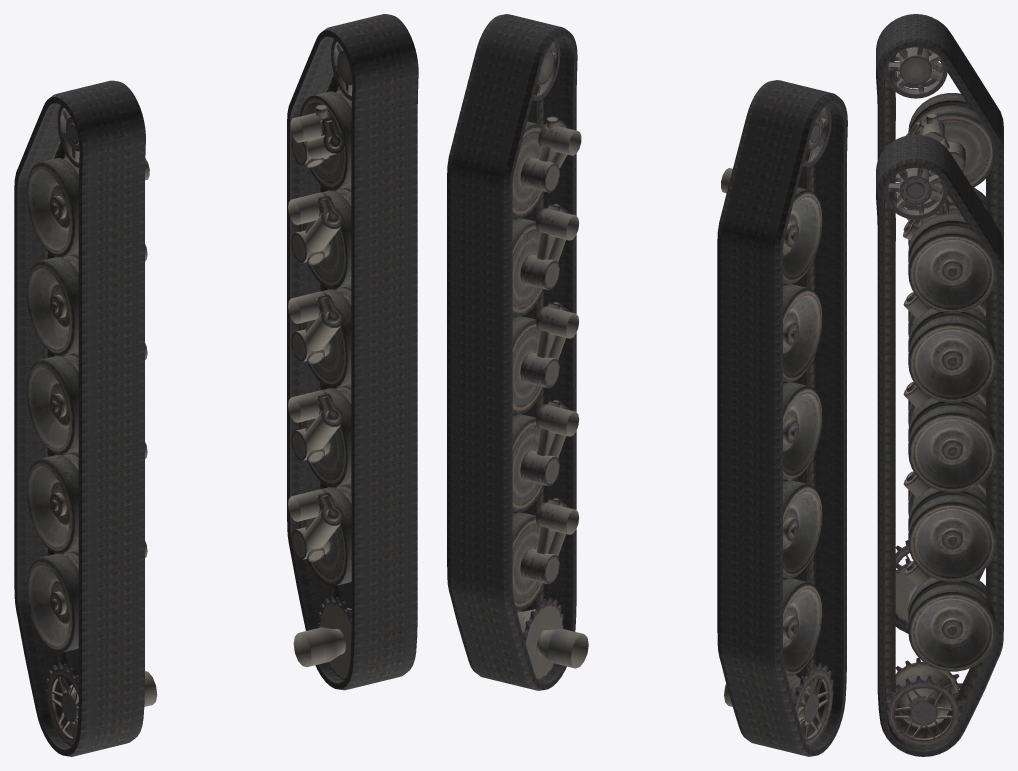
Rendered from Chassis.glb.
3 views of the same model, side by side, from view 1: azimuth 30°, elevation 25°; view 2: azimuth 150°, elevation 25°; view 3: azimuth 270°, elevation 25° (orthographic). The views are drawn at different scales.
Visible parts, largest first — view 1: set_1_group_0, set_0_group_0, set_3_group_0, set_2_group_0; view 2: set_1_group_0, set_0_group_0, set_3_group_0, set_2_group_0; view 3: set_3_group_0, set_0_group_0, set_2_group_0, set_1_group_0.
Boxes of the visible parts, <box> form: set_1_group_0: <box>14,80,145,756</box>; set_0_group_0: <box>287,14,418,690</box>; set_3_group_0: <box>288,39,352,680</box>; set_2_group_0: <box>26,105,157,746</box>; set_1_group_0: <box>717,80,847,756</box>; set_0_group_0: <box>447,14,577,690</box>; set_3_group_0: <box>512,39,588,680</box>; set_2_group_0: <box>721,104,833,746</box>; set_3_group_0: <box>884,168,996,747</box>; set_0_group_0: <box>876,134,1003,756</box>; set_2_group_0: <box>884,47,996,623</box>; set_1_group_0: <box>876,14,1003,633</box>.
Size of the model in its own units: 3.3 by 6.2 by 1.2.
4 materials, 4 textured.
